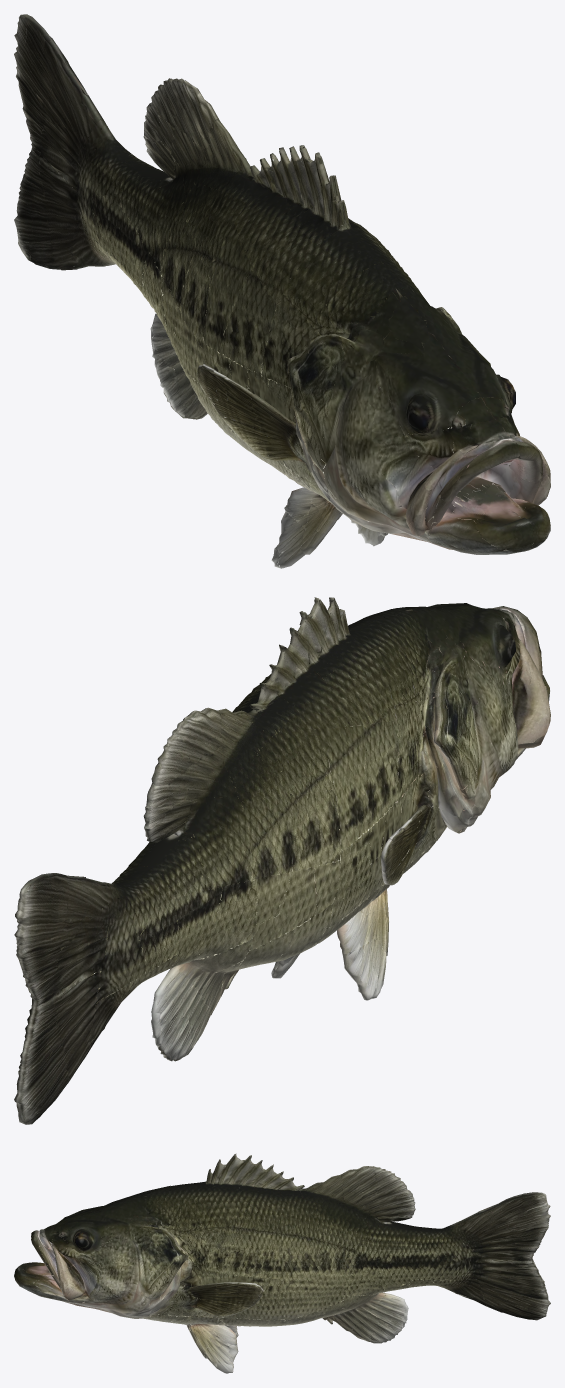
Rendered from bass.glb.
The picture shows the model from 3 angles, top to bottom: view 1: azimuth 30°, elevation 25°; view 2: azimuth 150°, elevation 25°; view 3: azimuth 270°, elevation 25°; orthographic projection. The views are drawn at different scales.
Parts seen in each view (by area): view 1: Mesh_0; view 2: Mesh_0; view 3: Mesh_0.
Part boxes in pixels (x1=…): Mesh_0: x1=14, y1=14, x2=550, y2=568; Mesh_0: x1=14, y1=597, x2=550, y2=1124; Mesh_0: x1=14, y1=1153, x2=550, y2=1373.
Size of the model in its own units: 0.4133 by 0.8139 by 1.9.
Materials: 1 (1 with a texture image).
